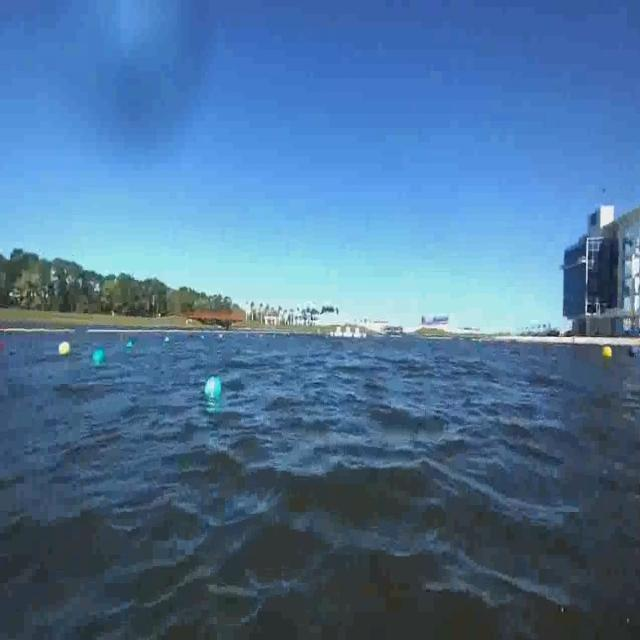green-buoy: (205, 374, 223, 397), (91, 348, 105, 366)
yellow-buoy: (60, 342, 72, 357), (602, 345, 612, 360)
